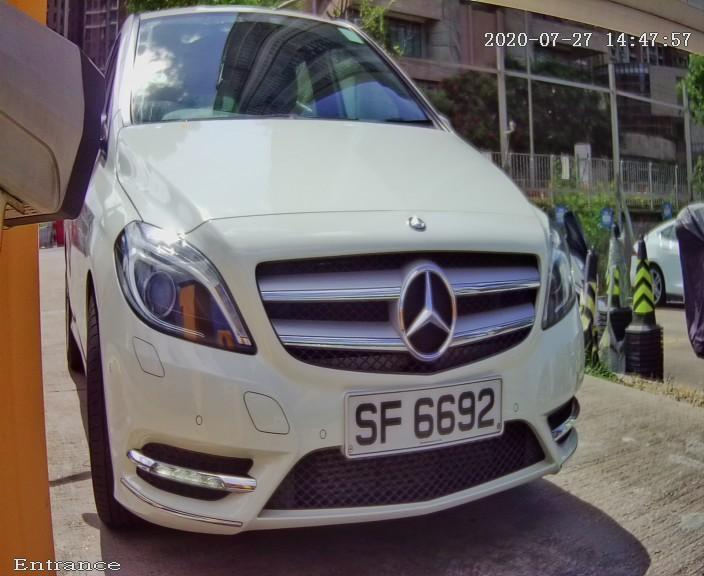privatecar: (70, 16, 604, 543)
